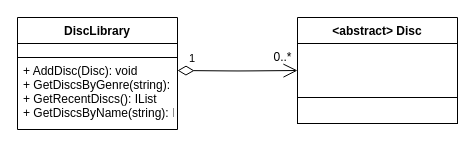
Some shapes in this 475 by 150 pixel diagram are drawn without their labels. The centre of each missing label's shape, as x and y in pixels:
"+ Favorite(): bool" belongs at point 377,110.
"+ Name: string + Genre: string + Year: int" belongs at point 377,70.
